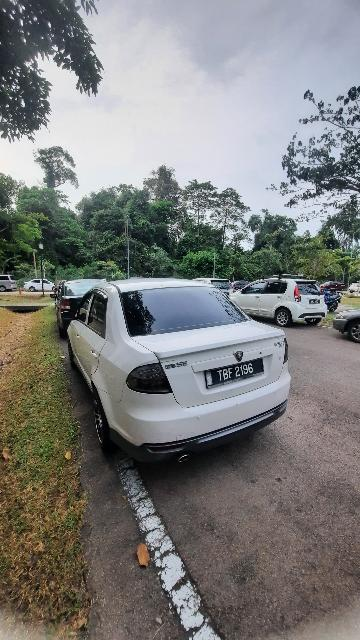License_Plate: (201, 355, 268, 390)
car: (67, 273, 294, 469), (223, 270, 329, 333)
